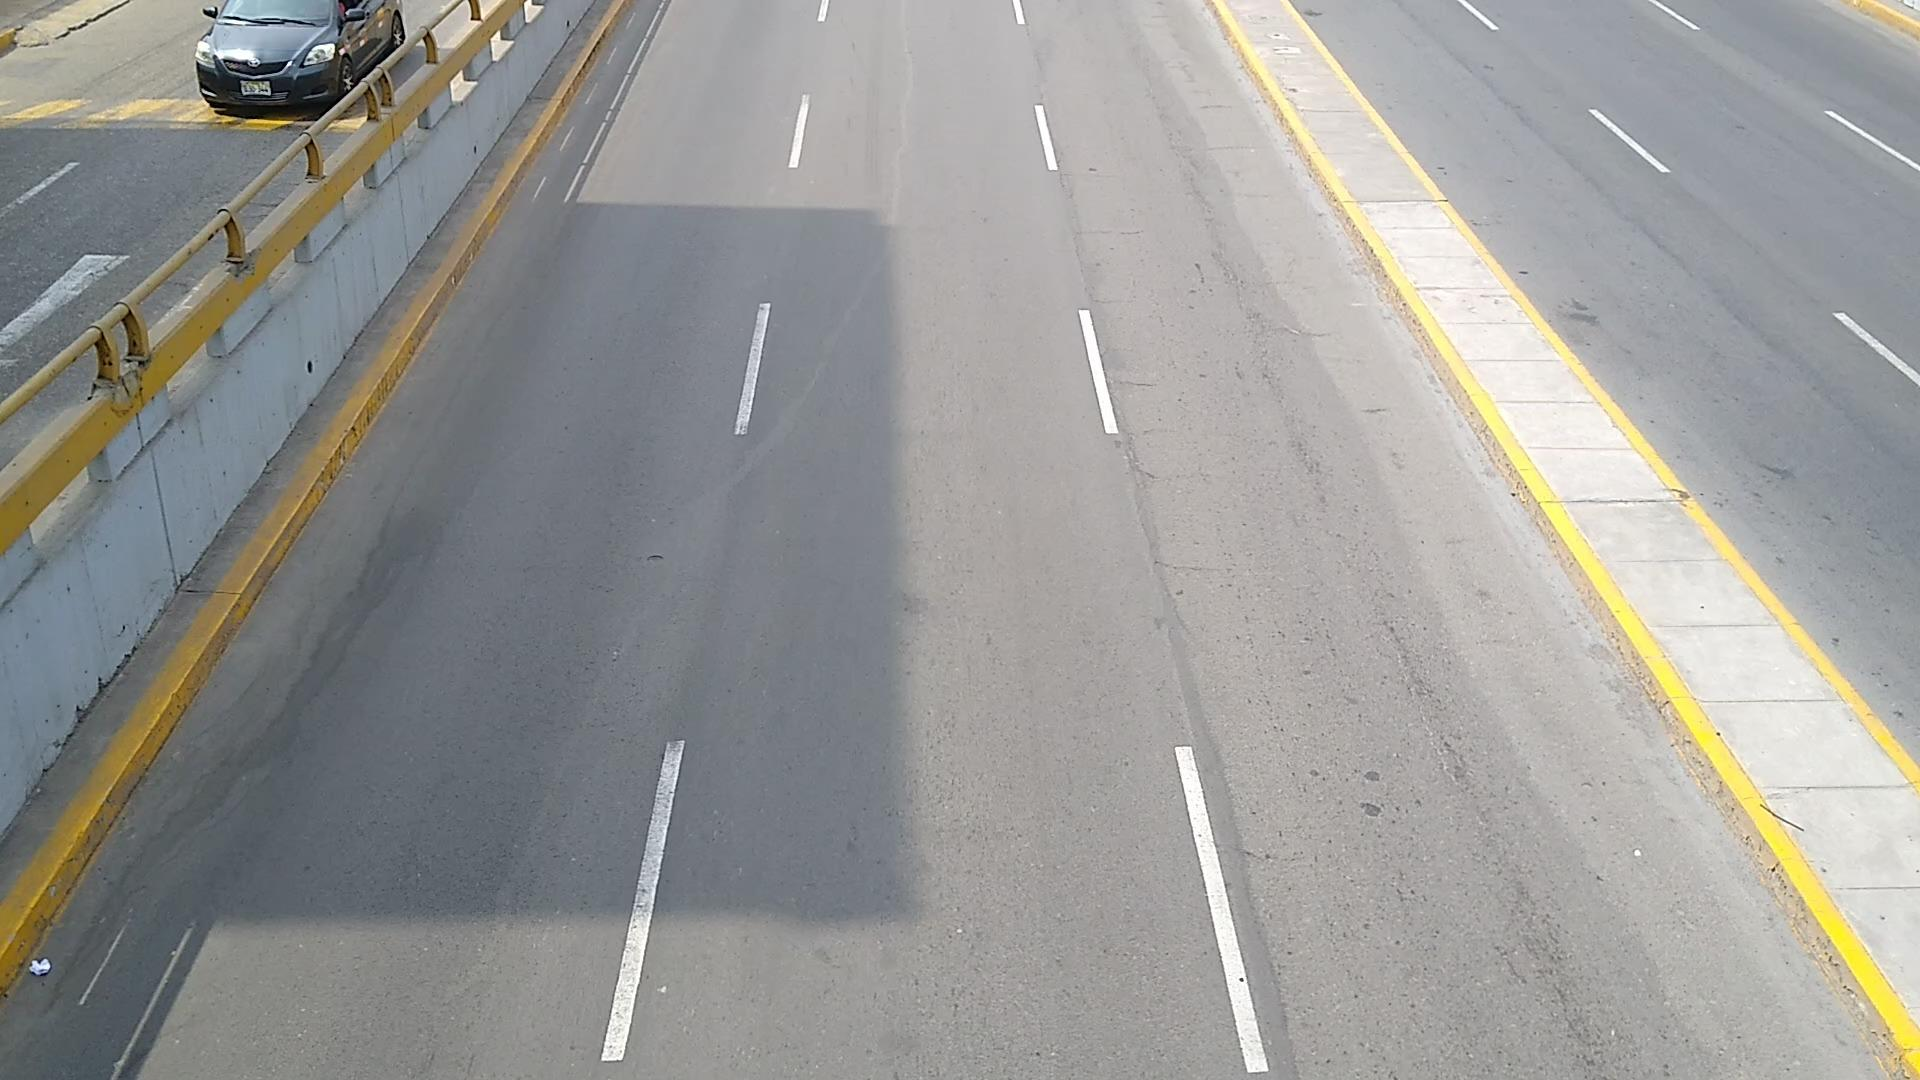car: (195, 0, 405, 108)
